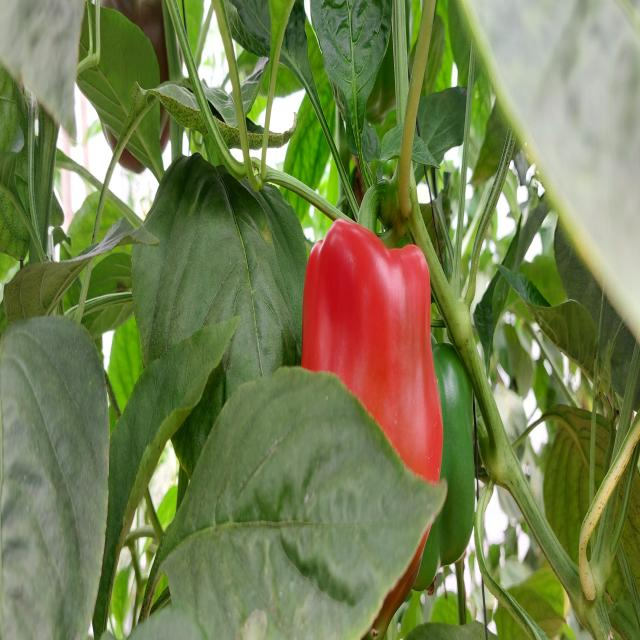Red-Ready-to-Harvest: (299, 226, 444, 590)
